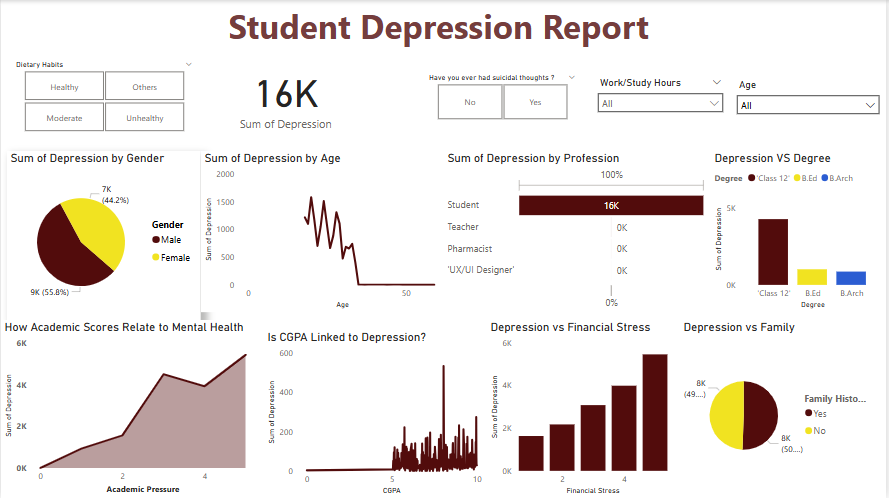

The dashboard page shown, as its layout file describes it:
{"tool":"powerbi","page":{"name":"Page 1","canvas":[1280,720],"ordinal":0},"visuals":[{"type":"textbox","box":[323.9,0,657.8,82.4],"z":0},{"type":"pieChart","fields":{"Category":["student_depression_dataset.Gender"],"Y":["Sum(student_depression_dataset.Depression)"]},"box":[8.9,218.4,280.5,245],"z":1000},{"type":"lineChart","fields":{"Y":["Sum(student_depression_dataset.Depression)"],"Category":["student_depression_dataset.Age"]},"box":[289.4,218.4,356.8,232.6],"z":2000},{"type":"slicer","fields":{"Values":["student_depression_dataset.Age"]},"box":[1054,109.9,225.5,69.4],"z":3000},{"type":"columnChart","title":"Depression  vs Financial Stress","fields":{"Category":["student_depression_dataset.Financial Stress"],"Y":["Sum(student_depression_dataset.Depression)"]},"box":[703,463.4,266.3,257.4],"z":4000},{"type":"slicer","fields":{"Values":["student_depression_dataset.Dietary Habits"]},"box":[8.7,82.4,280.5,114.2],"z":5000},{"type":"card","fields":{"Values":["Sum(student_depression_dataset.Depression)"]},"box":[289.4,79.9,245,120.7],"z":6000},{"type":"slicer","fields":{"Values":["student_depression_dataset.Work/Study Hours"]},"box":[853,107,201,66.5],"z":7000},{"type":"columnChart","title":" Depression VS Degree","fields":{"Y":["Sum(student_depression_dataset.Depression)"],"Category":["student_depression_dataset.Degree"],"Series":["student_depression_dataset.Degree"]},"box":[1026.1,218.4,253.9,232.6],"z":8000},{"type":"slicer","fields":{"Values":["student_depression_dataset.Have you ever had suicidal thoughts ?"]},"box":[605.8,101.2,237.1,78.1],"z":10000},{"type":"funnel","fields":{"Category":["student_depression_dataset.Profession"],"Y":["Sum(student_depression_dataset.Depression)"]},"box":[640.9,218.4,385.2,232.6],"z":11000},{"type":"lineChart","title":"Is CGPA Linked to Depression?","fields":{"Category":["student_depression_dataset.CGPA"],"Y":["Sum(student_depression_dataset.Depression)"]},"box":[379.9,477.6,323.1,243.2],"z":11001},{"type":"pieChart","title":"Depression  vs Family ","fields":{"Category":["student_depression_dataset.Family History of Mental Illness"],"Y":["Sum(student_depression_dataset.Depression)"]},"box":[981.7,463.4,276.9,257.4],"z":11002},{"type":"areaChart","title":"How Academic Scores Relate to Mental Health","fields":{"Category":["student_depression_dataset.Academic Pressure"],"Y":["Sum(student_depression_dataset.Depression)"]},"box":[0,463.4,369.3,257.4],"z":11003}]}

Visuals, with their boxes in screenshot pixels (x1, y1, x2, y2), scaled from the page's 1280x720 canvas onto the 889x498 screenshot:
textbox: bbox=[225, 0, 682, 57]
pieChart - student_depression_dataset.Gender x Sum(student_depression_dataset.Depression): bbox=[6, 151, 201, 321]
lineChart - Sum(student_depression_dataset.Depression) x student_depression_dataset.Age: bbox=[201, 151, 449, 312]
slicer - student_depression_dataset.Age: bbox=[732, 76, 888, 124]
"Depression  vs Financial Stress" columnChart: bbox=[488, 321, 673, 497]
slicer - student_depression_dataset.Dietary Habits: bbox=[6, 57, 201, 136]
card - Sum(student_depression_dataset.Depression): bbox=[201, 55, 371, 139]
slicer - student_depression_dataset.Work/Study Hours: bbox=[592, 74, 732, 120]
" Depression VS Degree" columnChart: bbox=[713, 151, 888, 312]
slicer - student_depression_dataset.Have you ever had suicidal thoughts ?: bbox=[421, 70, 585, 124]
funnel - student_depression_dataset.Profession x Sum(student_depression_dataset.Depression): bbox=[445, 151, 713, 312]
"Is CGPA Linked to Depression?" lineChart: bbox=[264, 330, 488, 497]
"Depression  vs Family " pieChart: bbox=[682, 321, 874, 497]
"How Academic Scores Relate to Mental Health" areaChart: bbox=[0, 321, 256, 497]
